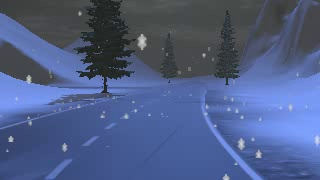Lane: (0, 83, 257, 178)
